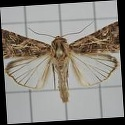Spodoptera litura: (4, 23, 121, 103)
